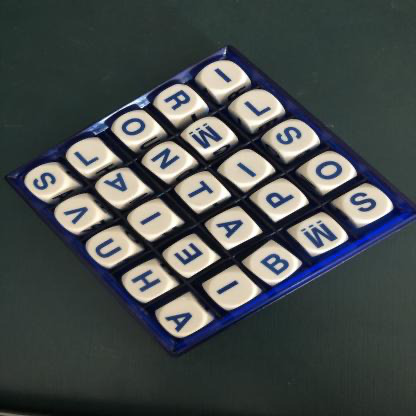a: (160, 302, 207, 338), (212, 212, 256, 245), (99, 172, 142, 203)
b: (251, 249, 298, 283)
e: (169, 240, 215, 274)
h: (125, 266, 173, 300)
i: (209, 273, 256, 309), (225, 152, 270, 185), (133, 204, 175, 237), (203, 62, 244, 92)
l: (70, 141, 111, 172), (237, 92, 280, 121)
m: (297, 218, 344, 254), (186, 118, 232, 152)
n: (147, 143, 189, 177)
o: (308, 154, 355, 187), (117, 112, 158, 142)
p: (258, 184, 305, 215)
r: (157, 85, 200, 118)
s: (344, 189, 392, 223), (271, 121, 316, 154), (27, 166, 70, 196)
t: (181, 175, 225, 209)
u: (89, 231, 134, 266)
v: (58, 199, 100, 231)
